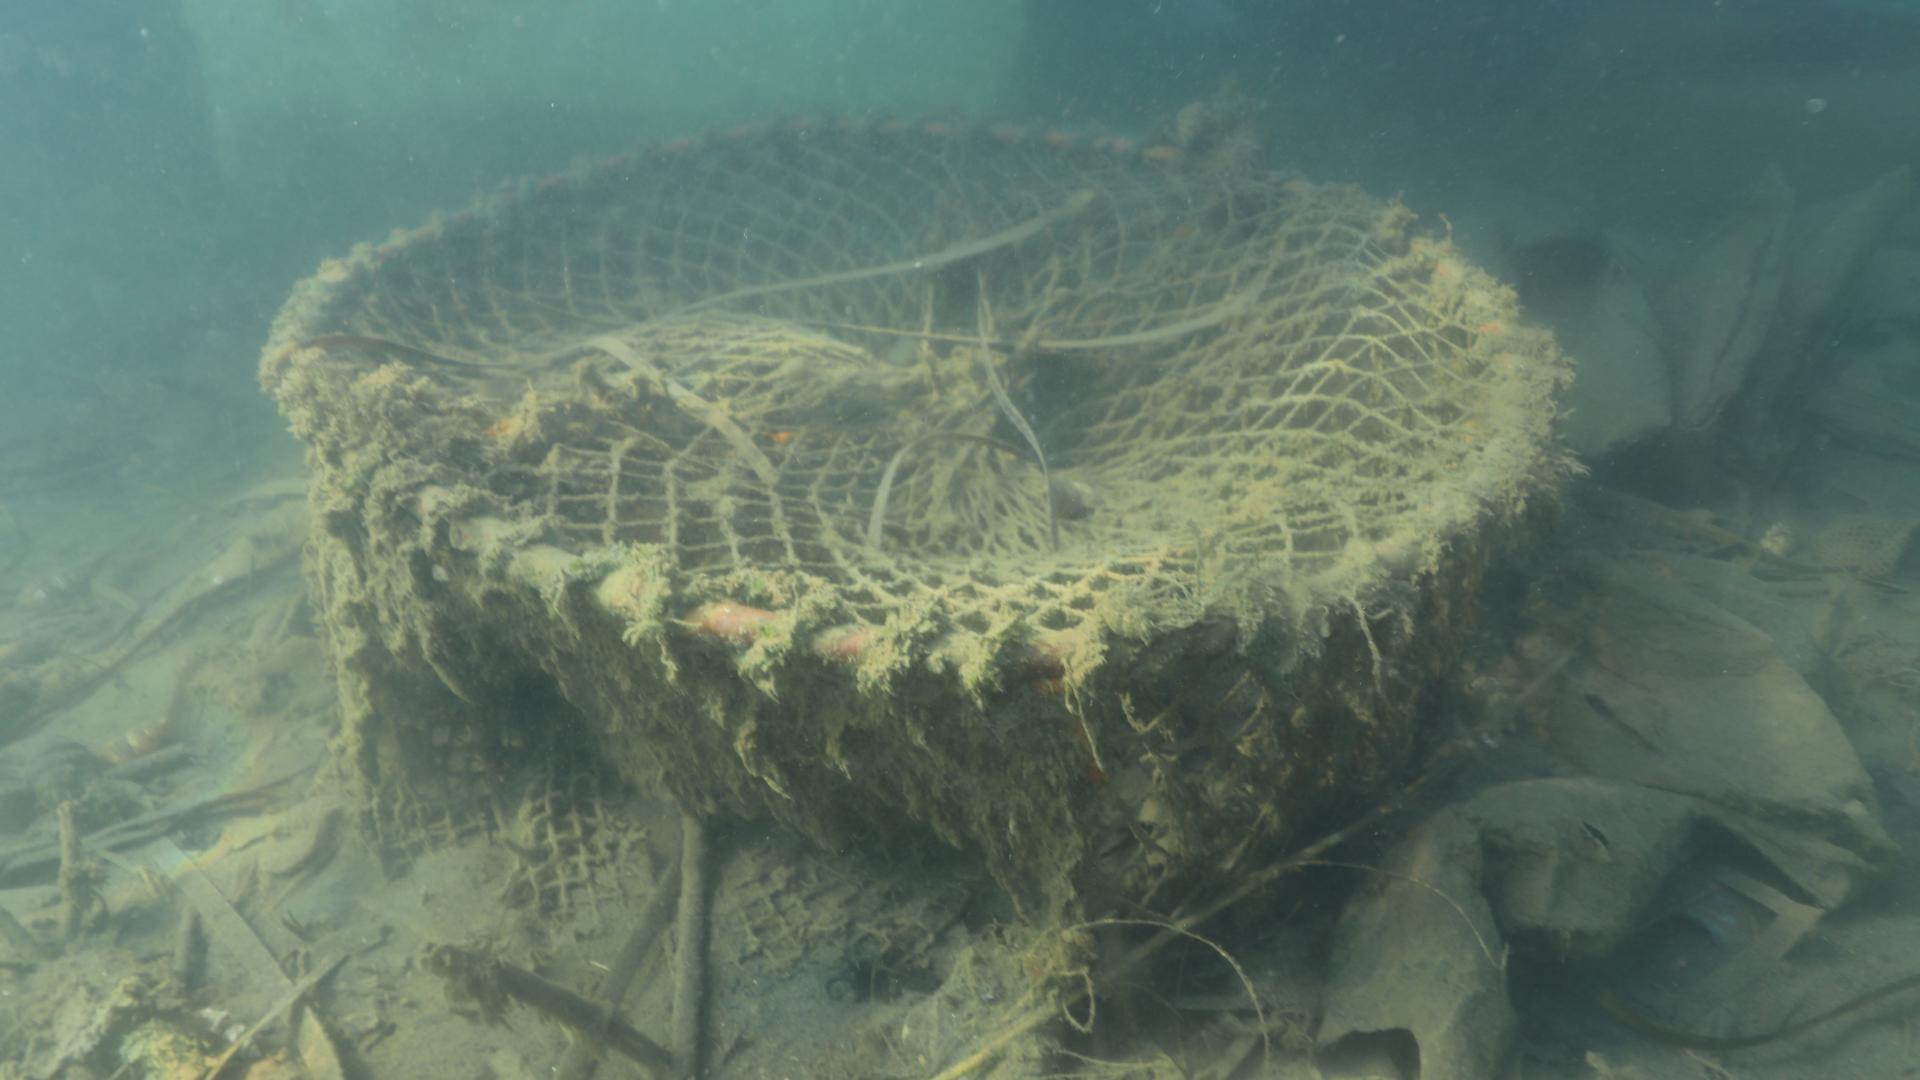circular fish trap: (255, 115, 1557, 919)
